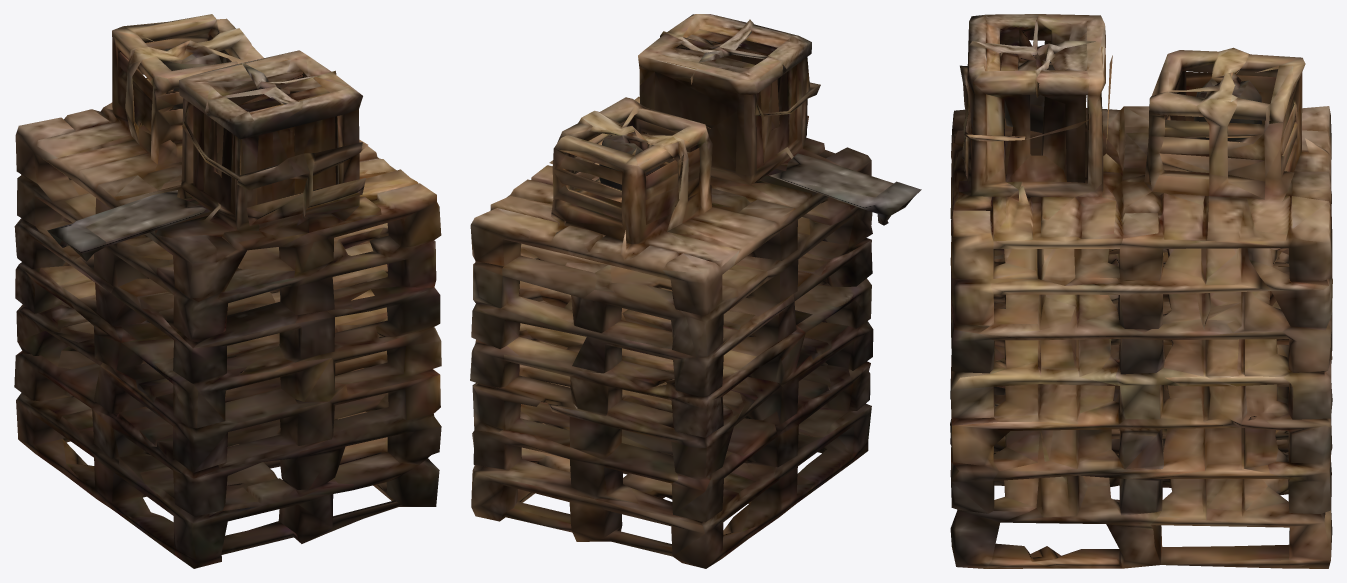
The model's file is p_pallets.glb.
3 views of the same model, side by side, from view 1: azimuth 30°, elevation 25°; view 2: azimuth 150°, elevation 25°; view 3: azimuth 270°, elevation 25° (orthographic). The views are drawn at different scales.
Parts seen in each view (by area): view 1: tripo_node_42327cd0-b13e-481b-b740-2b1df019c52e; view 2: tripo_node_42327cd0-b13e-481b-b740-2b1df019c52e; view 3: tripo_node_42327cd0-b13e-481b-b740-2b1df019c52e.
Boxes of the visible parts, <box> form: tripo_node_42327cd0-b13e-481b-b740-2b1df019c52e: <box>14,14,441,568</box>; tripo_node_42327cd0-b13e-481b-b740-2b1df019c52e: <box>470,14,921,568</box>; tripo_node_42327cd0-b13e-481b-b740-2b1df019c52e: <box>950,14,1332,568</box>.
Bounding box in the file's own units: 0.8029 × 1 × 0.7481.
1 material, 1 textured.
